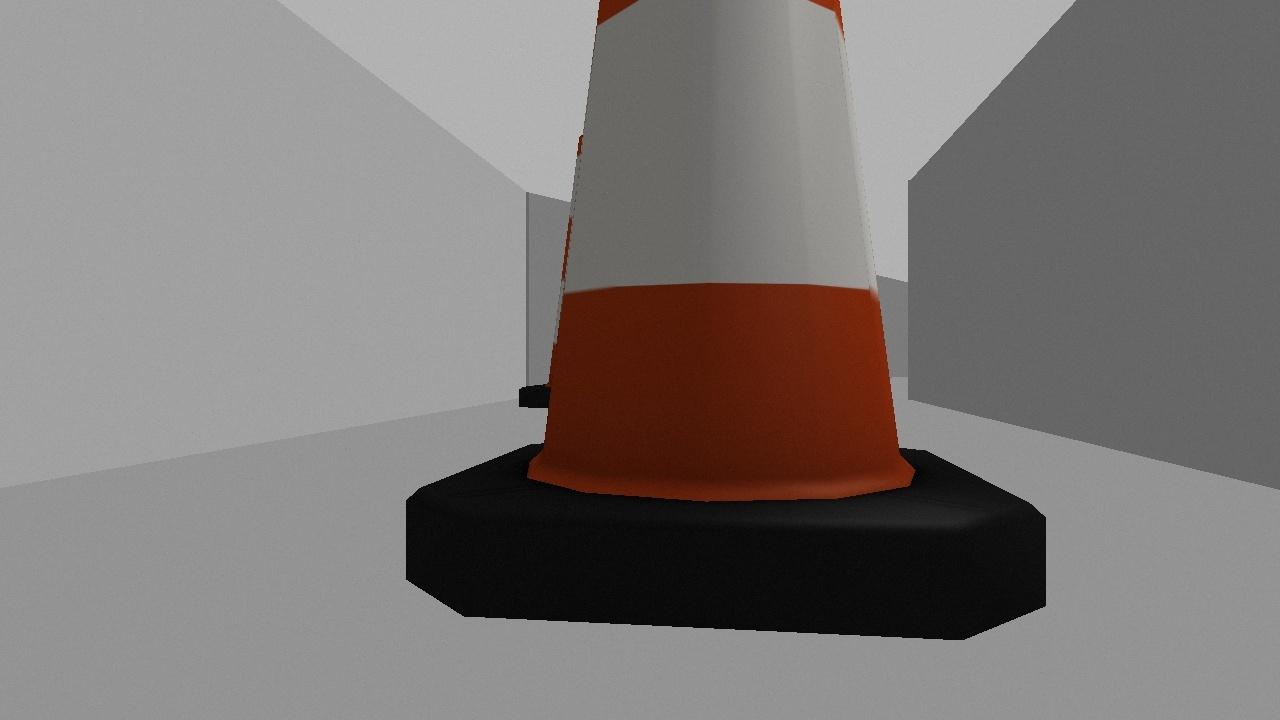cone_barrel: (318, 0, 1074, 666)
